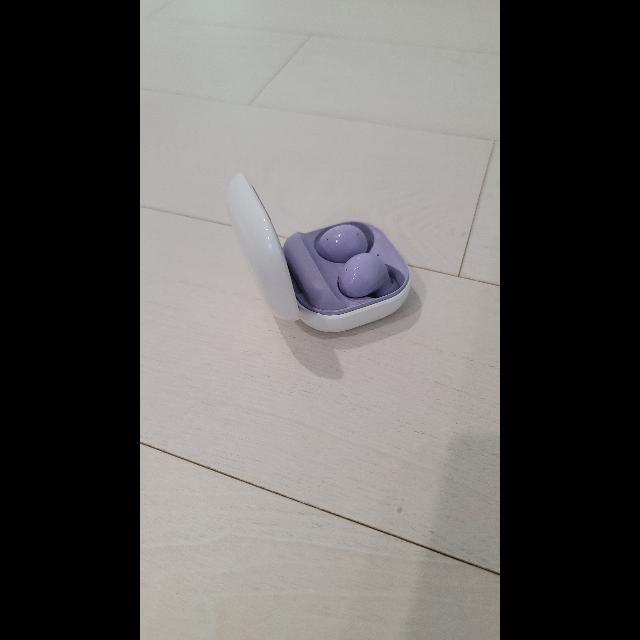GALAXY-BUDS-2: (231, 171, 414, 330)
